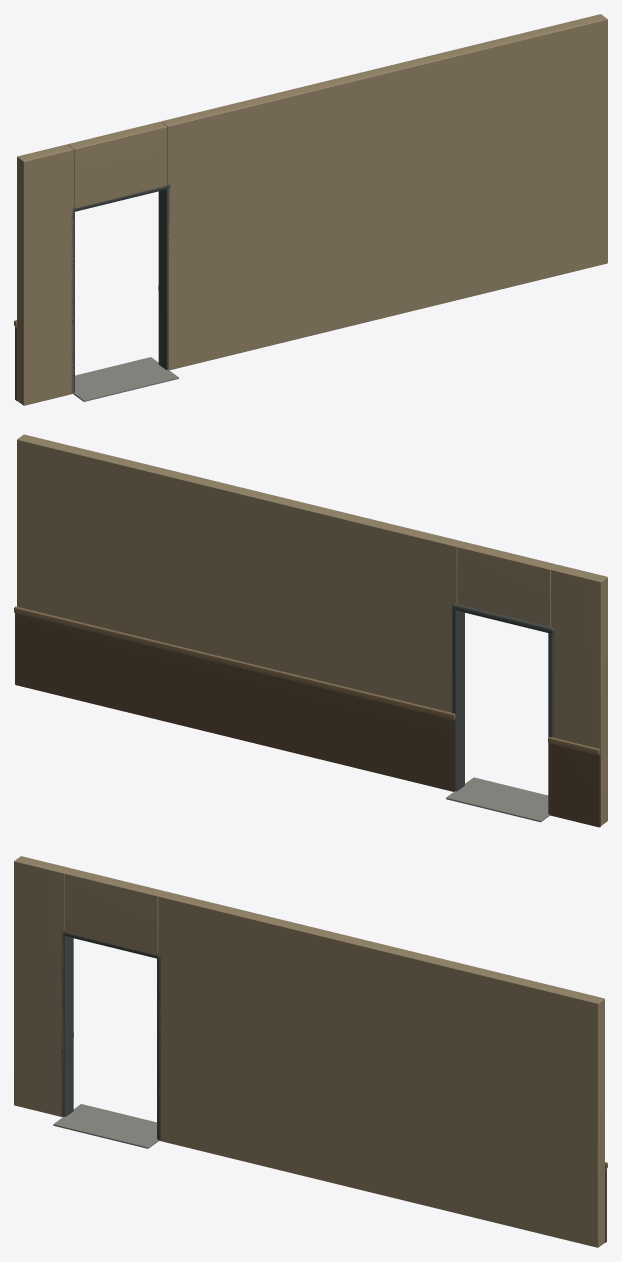
Rendered from Repair_RearLining62.fbx.
3 renders of one model, top to bottom at view 1: azimuth 30°, elevation 25°; view 2: azimuth 150°, elevation 25°; view 3: azimuth 330°, elevation 25°, orthographic.
Visible parts, largest first — view 1: Repair_RearLining62; view 2: Repair_RearLining62; view 3: Repair_RearLining62.
Part boxes in pixels (left/top/right/bottom): Repair_RearLining62: left=14, top=14, right=607, bottom=405; Repair_RearLining62: left=14, top=434, right=607, bottom=827; Repair_RearLining62: left=14, top=856, right=607, bottom=1247.
Bounding box in the file's own units: 750 × 301 × 62.
